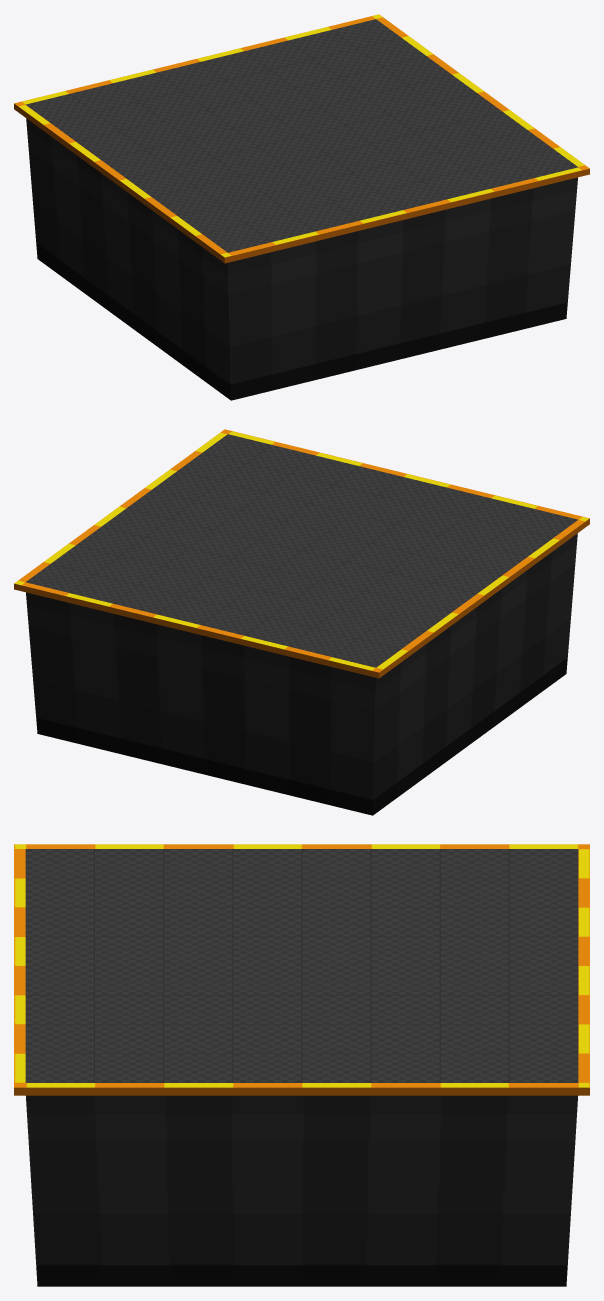
File: ground.FBX
3 renders of one model, top to bottom at view 1: azimuth 30°, elevation 25°; view 2: azimuth 150°, elevation 25°; view 3: azimuth 270°, elevation 25°, orthographic. The views are drawn at different scales.
Parts seen in each view (by area): view 1: ground; view 2: ground; view 3: ground.
Part boxes in pixels (<box>): ground: <box>14,14,589,400</box>; ground: <box>14,429,589,815</box>; ground: <box>14,844,589,1286</box>.
Bounding box in the file's own units: 3937 × 1576 × 3937.
